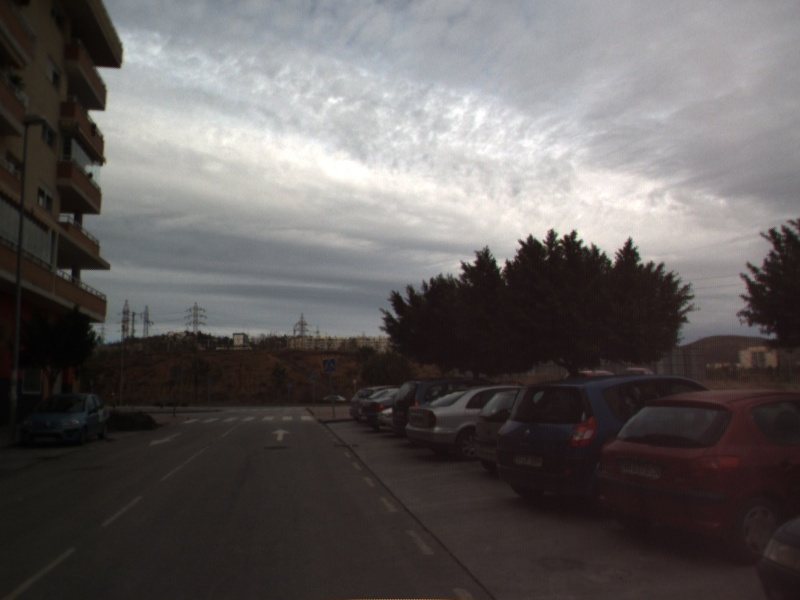STRAIGHT: (270, 427, 293, 443)
